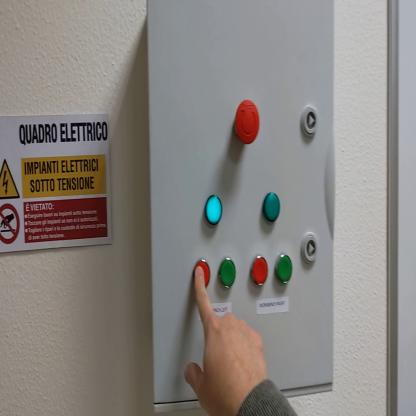hand: (185, 269, 271, 416)
left green button: (220, 256, 238, 290)
left red button: (192, 254, 212, 288)
right green button: (277, 256, 295, 286)
right red button: (251, 254, 270, 289)
